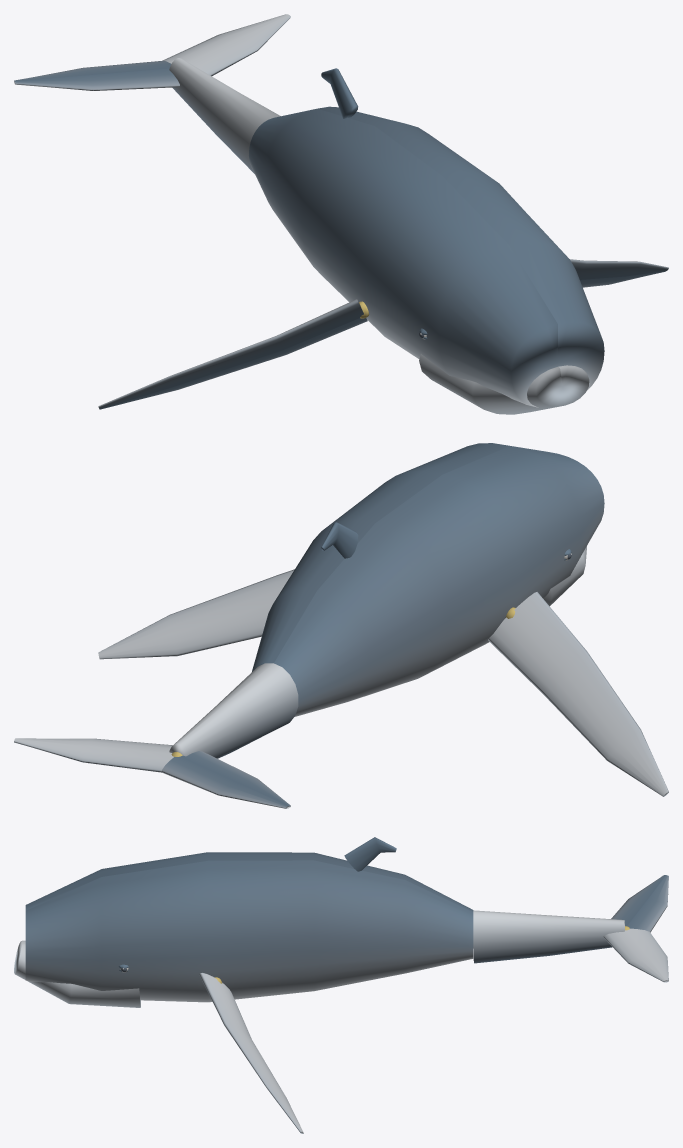
The model's file is whale.glb.
3 renders of one model, top to bottom at view 1: azimuth 30°, elevation 25°; view 2: azimuth 150°, elevation 25°; view 3: azimuth 270°, elevation 25°, orthographic. The views are drawn at different scales.
Parts seen in each view (by area): view 1: Body, Fluke, Flipper_L, Tail, Jaw, Flipper_R; view 2: Body, Flipper_L, Flipper_R, Fluke, Tail, Jaw; view 3: Body, Tail, Fluke, Flipper_R, Jaw.
Boxes of the visible parts, <box> form: Body: <box>249,68,604,407</box>; Fluke: <box>14,14,290,90</box>; Flipper_L: <box>98,299,369,409</box>; Tail: <box>169,58,280,173</box>; Jaw: <box>419,354,589,414</box>; Flipper_R: <box>570,259,668,287</box>; Body: <box>252,443,604,716</box>; Flipper_L: <box>488,592,668,796</box>; Flipper_R: <box>98,569,294,659</box>; Fluke: <box>14,738,290,808</box>; Tail: <box>169,663,298,758</box>; Jaw: <box>543,546,586,606</box>; Body: <box>25,837,473,1002</box>; Tail: <box>473,910,624,963</box>; Fluke: <box>603,875,668,982</box>; Flipper_R: <box>199,973,303,1133</box>; Jaw: <box>14,940,140,1007</box>.
Bounding box in the file's own units: 3.42 × 1.37 × 4.32.
